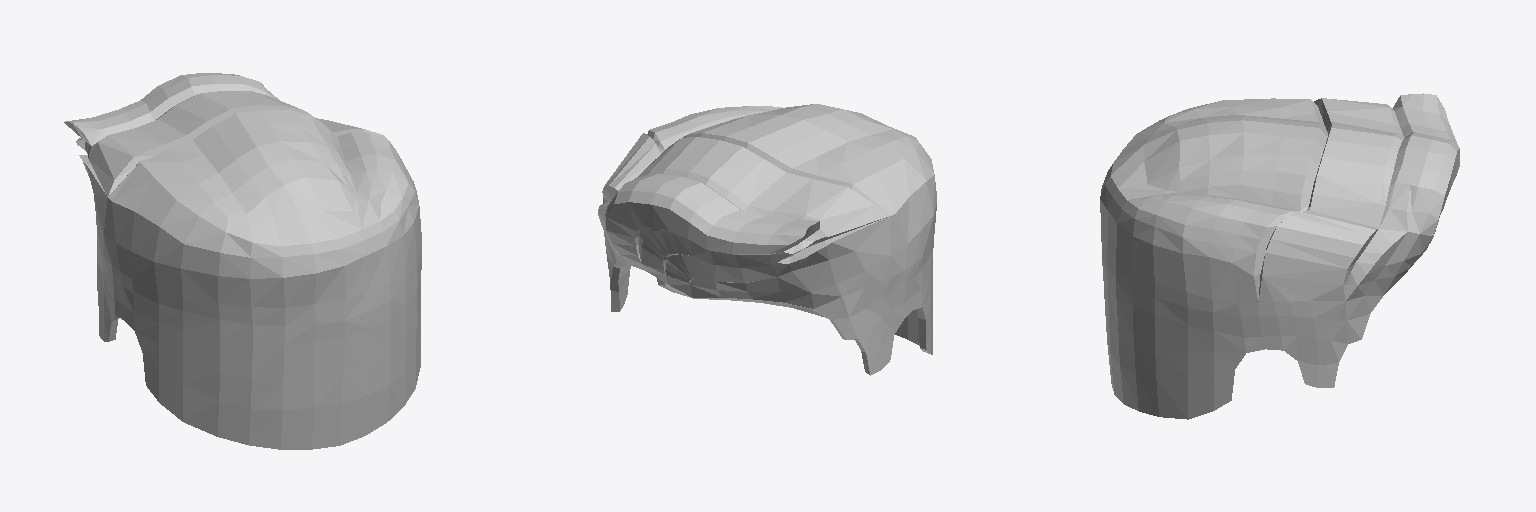
The model's file is joshyhair.obj.
3 renders of one model, left to right at view 1: azimuth 30°, elevation 25°; view 2: azimuth 150°, elevation 25°; view 3: azimuth 270°, elevation 25°, orthographic.
Parts seen in each view (by area): view 1: Sub2joshh1; view 2: Sub2joshh1; view 3: Sub2joshh1.
Boxes of the visible parts, <box> form: Sub2joshh1: <box>64,73,421,449</box>; Sub2joshh1: <box>598,104,936,375</box>; Sub2joshh1: <box>1100,93,1459,419</box>.
Size of the model in its own units: 1.25 by 1.09 by 1.39.